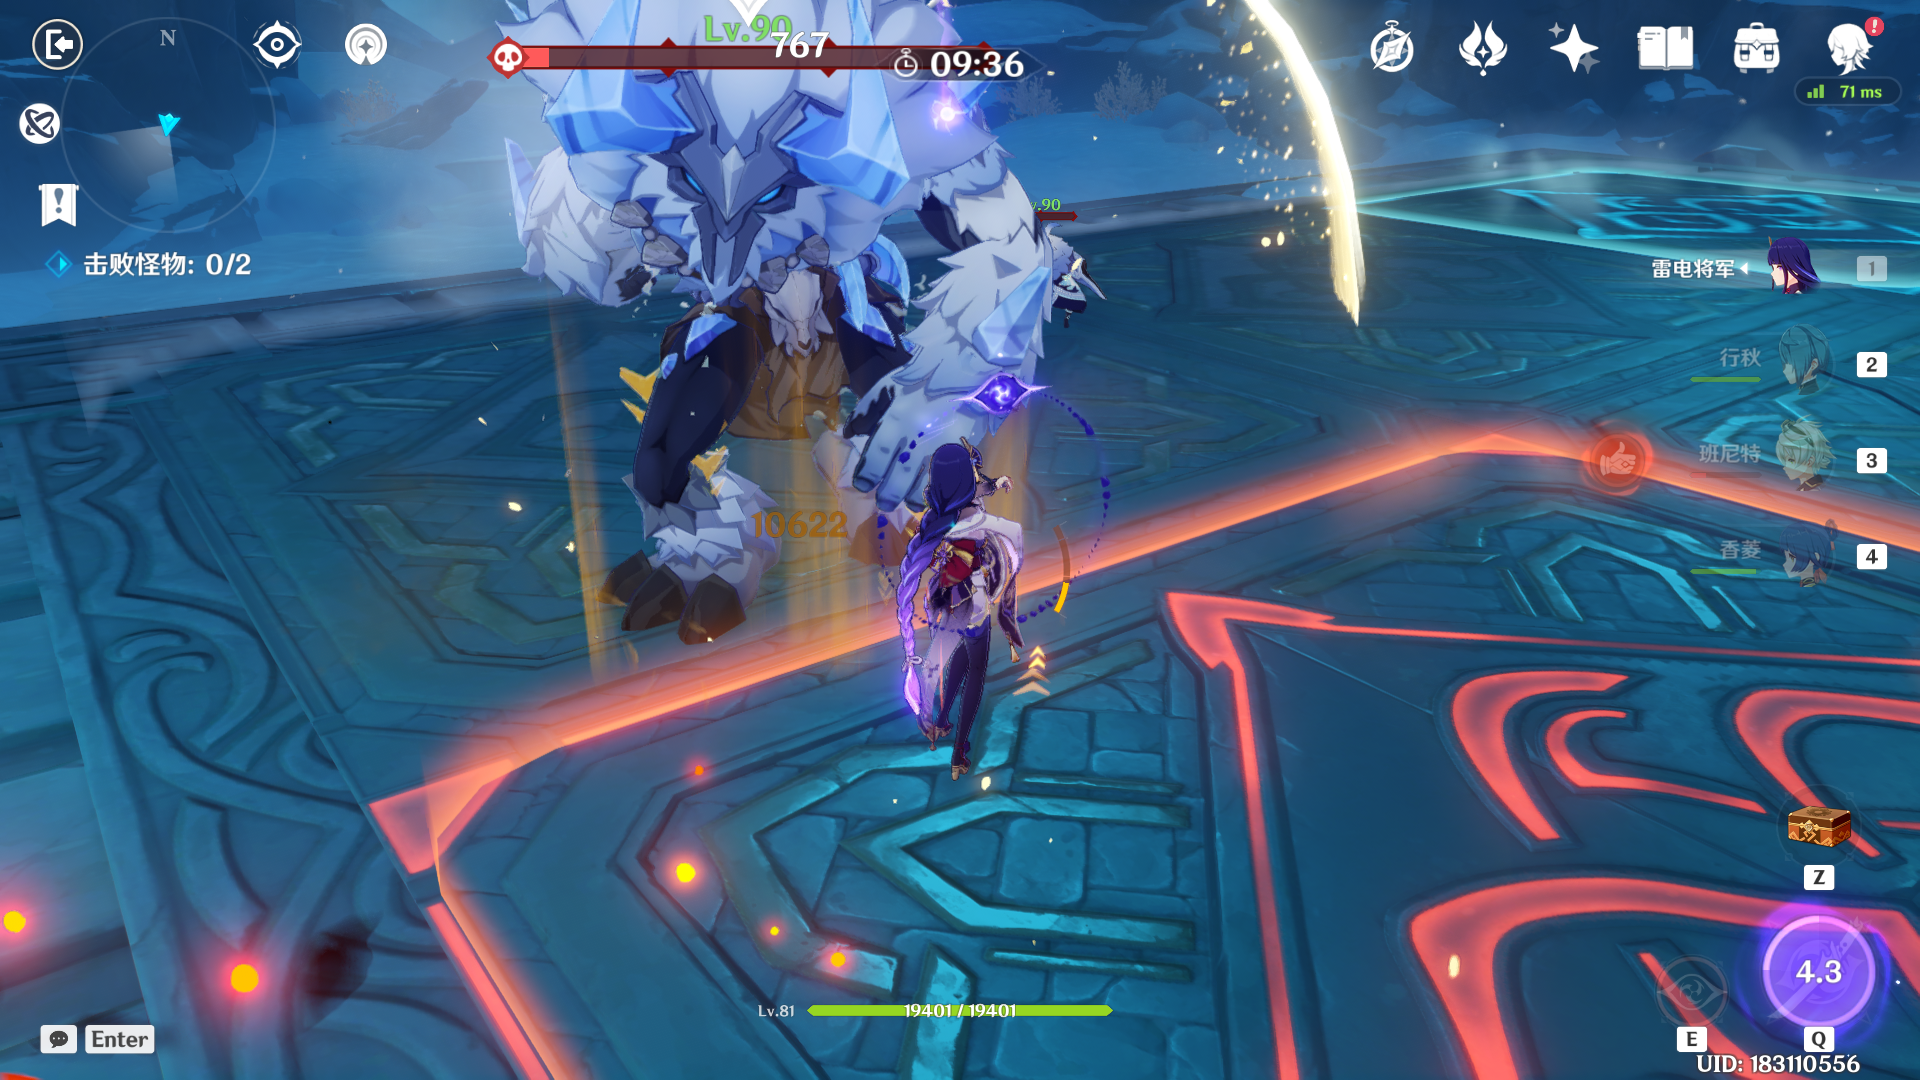bosshili: (502, 1, 1091, 637)
character: (827, 446, 1083, 803)
